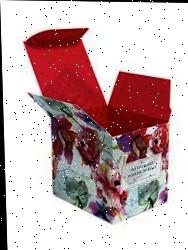cube: (47, 106, 168, 220)
